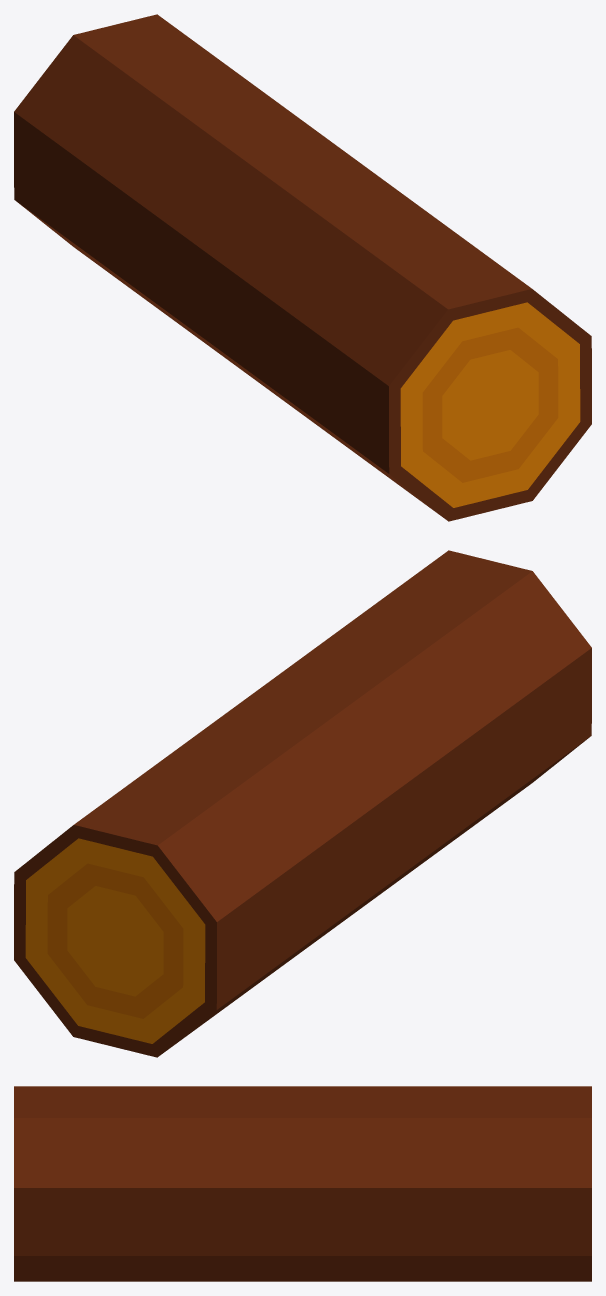
Rendered from Small Log_25.fbx.
The picture shows the model from 3 angles, top to bottom: view 1: azimuth 30°, elevation 25°; view 2: azimuth 150°, elevation 25°; view 3: azimuth 270°, elevation 25°; orthographic projection. The views are drawn at different scales.
Parts seen in each view (by area): view 1: Circle.438; view 2: Circle.438; view 3: Circle.438.
Boxes of the visible parts, left/top/right/bottom form: Circle.438: left=14, top=14, right=591, bottom=521; Circle.438: left=14, top=550, right=591, bottom=1057; Circle.438: left=14, top=1086, right=591, bottom=1281.
Bounding box in the file's own units: 7.36 × 7.36 × 23.54.
